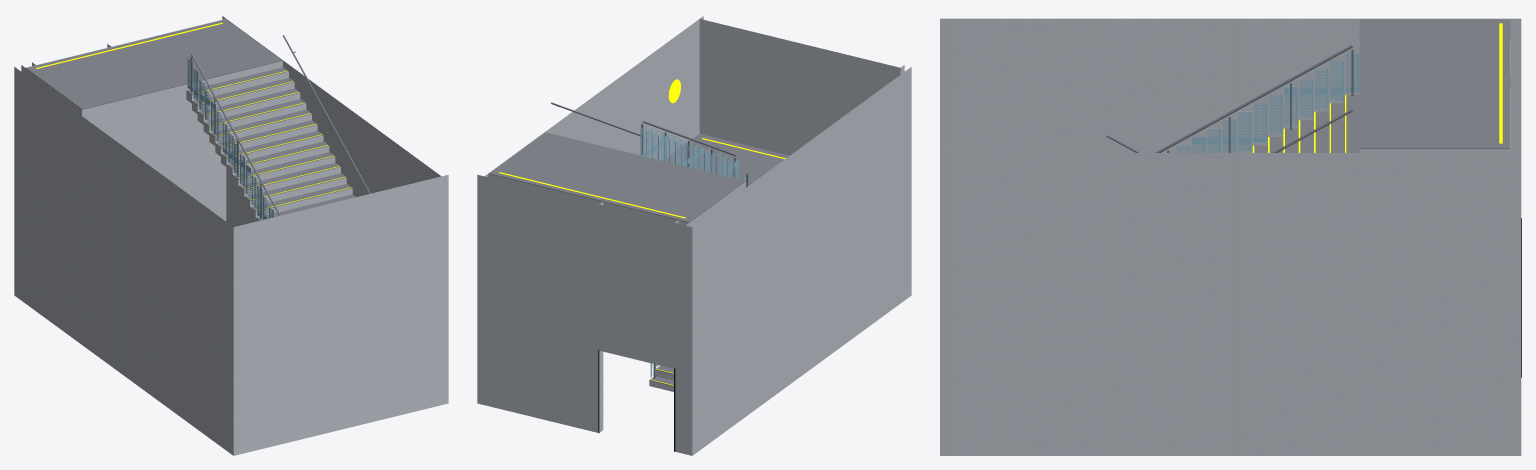
The model's file is tt_stair_core_b_m.glb.
The picture shows the model from 3 angles, left to right: view 1: azimuth 30°, elevation 25°; view 2: azimuth 150°, elevation 25°; view 3: azimuth 270°, elevation 25°; orthographic projection. The views are drawn at different scales.
Visible parts, largest first — view 1: Core_Walls, Top_Landing_Slate, Front_Wall, Flight2_Modules, Treads_Slate, Guard_Scissor, Top_Landing, Nosing_Emergency, Guard_Cap_Rail; view 2: Core_Walls, Front_Wall, Top_Landing_Slate, Mid_Landing_Slate, Guard_Scissor, Top_Landing, Court_Line_Landing; view 3: Core_Walls, Top_Landing_Slate, Guard_Scissor, Treads_Slate, Front_Wall, Guard_Cap_Rail, Top_Landing.
Part boxes in pixels (x1,y1,x2,y2): Core_Walls: (14,16,448,455); Top_Landing_Slate: (26,19,282,109); Front_Wall: (21,19,226,221); Flight2_Modules: (186,71,352,221); Treads_Slate: (186,67,355,220); Guard_Scissor: (187,58,274,219); Top_Landing: (25,61,282,119); Nosing_Emergency: (192,71,350,210); Guard_Cap_Rail: (191,53,280,215); Core_Walls: (477,16,911,455); Front_Wall: (484,176,689,453); Top_Landing_Slate: (488,132,745,222); Mid_Landing_Slate: (663,134,789,185); Guard_Scissor: (640,125,748,377); Top_Landing: (488,174,746,226); Court_Line_Landing: (499,138,785,218); Core_Walls: (940,18,1521,455); Top_Landing_Slate: (1359,19,1510,148); Guard_Scissor: (1176,52,1359,152); Treads_Slate: (1252,95,1359,152); Front_Wall: (1510,25,1521,152); Guard_Cap_Rail: (1155,45,1352,152); Top_Landing: (1360,40,1510,152).
Size of what is drawn, in the model's own units: 6 by 6.95 by 10.61.
Materials: 6 (4 with a texture image).
